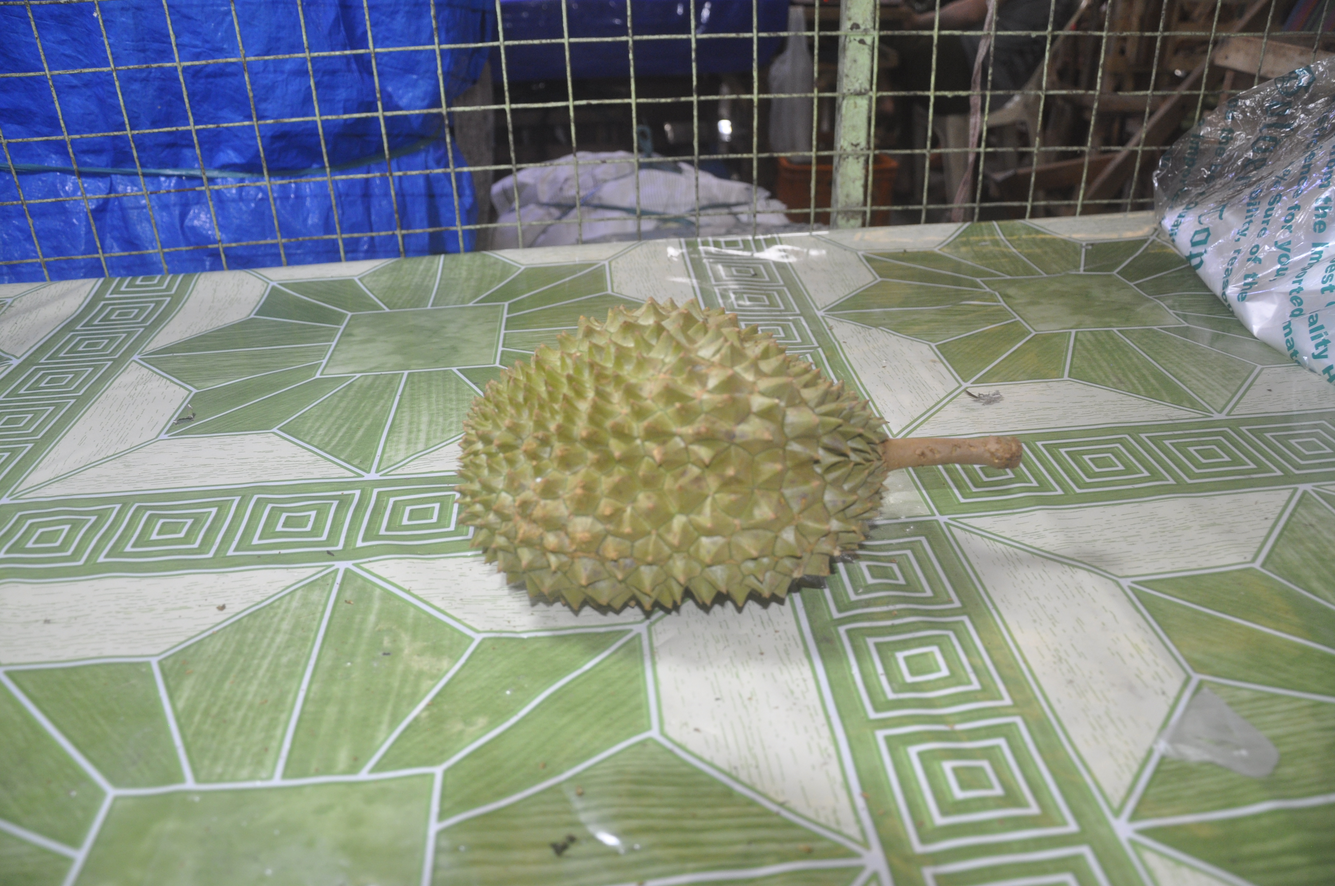mature: (456, 299, 1023, 617)
